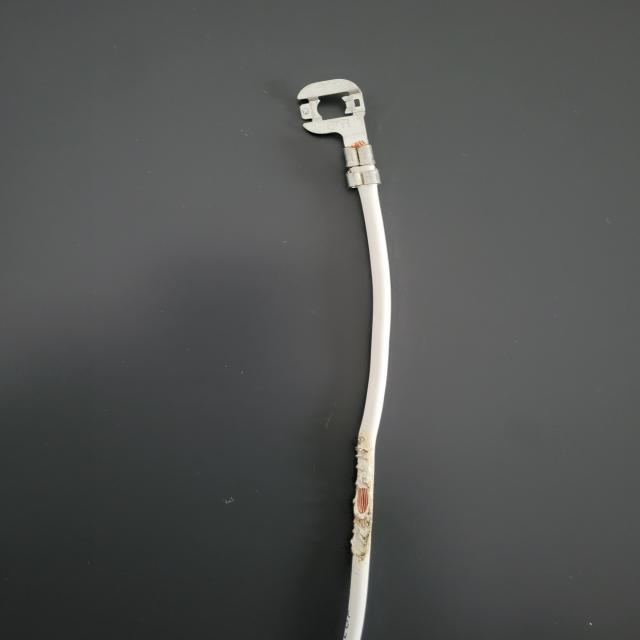defect: (310, 429, 410, 617)
